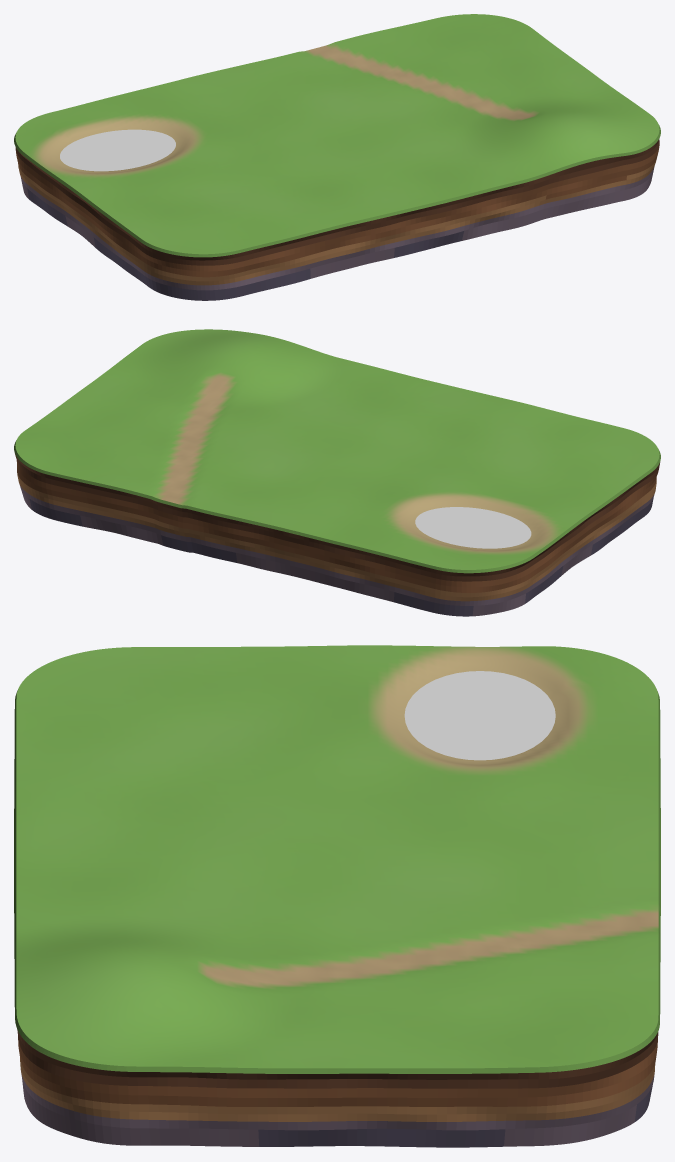
File: terrain_level05.fbx
3 views of the same model, one above another, from view 1: azimuth 30°, elevation 25°; view 2: azimuth 150°, elevation 25°; view 3: azimuth 270°, elevation 25° (orthographic). The views are drawn at different scales.
Parts seen in each view (by area): view 1: Ground, Water_well; view 2: Ground, Water_well; view 3: Ground, Water_well.
Boxes of the visible parts, left/top/right/bottom form: Ground: left=14, top=14, right=660, bottom=300; Water_well: left=60, top=129, right=175, bottom=171; Ground: left=14, top=329, right=660, bottom=616; Water_well: left=415, top=507, right=531, bottom=548; Ground: left=14, top=645, right=660, bottom=1147; Water_well: left=404, top=671, right=555, bottom=760.
Bounding box in the file's own units: 14.07 × 1.74 × 9.07.
